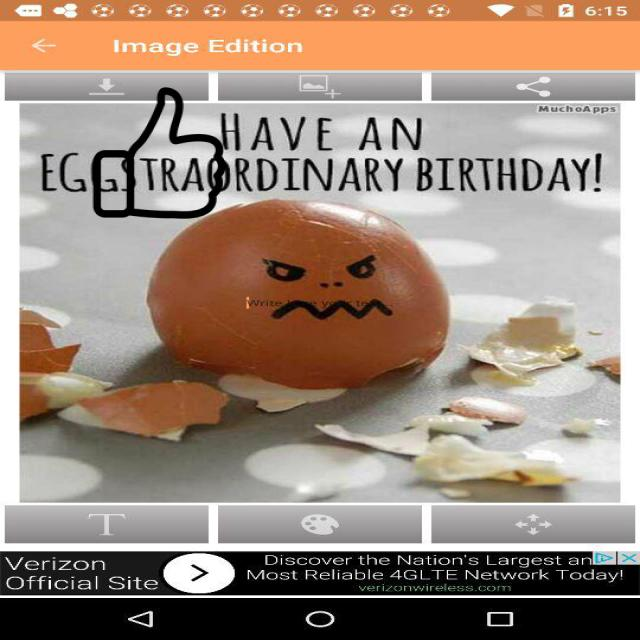privacy zuckering: (91, 87, 228, 219)
